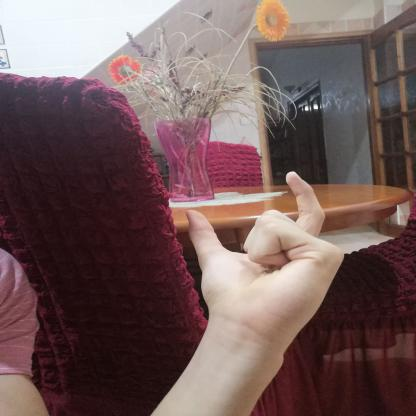NOON: (164, 159, 358, 357)
